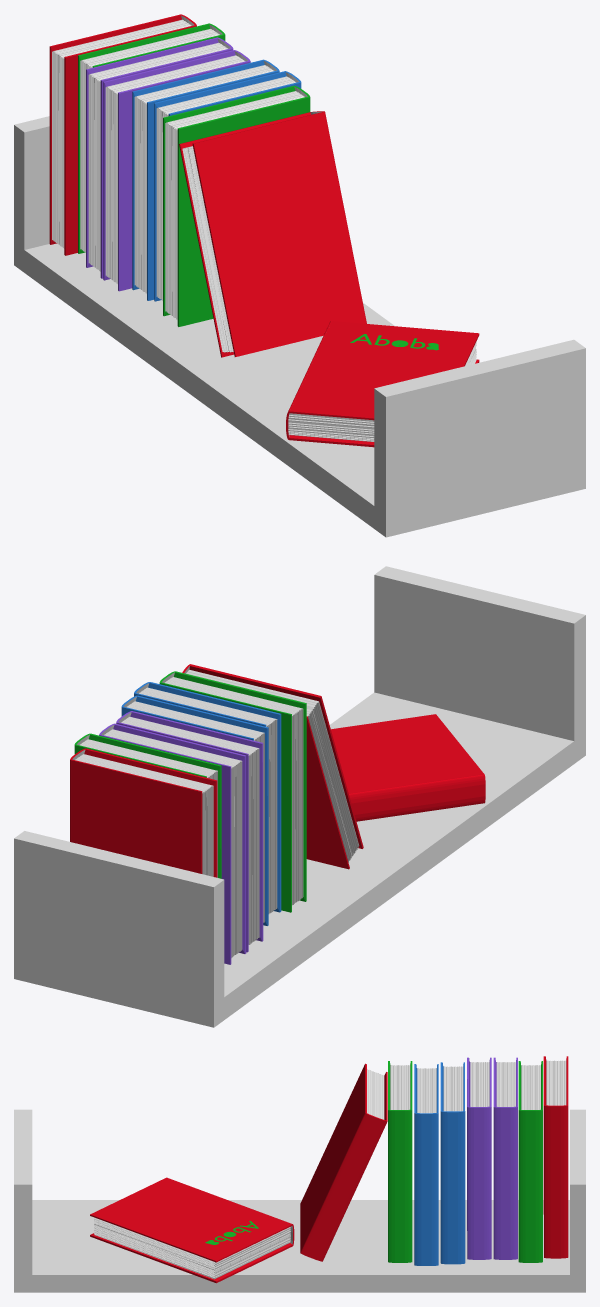
Rendered from Bookshelf.fbx.
3 views of the same model, one above another, from view 1: azimuth 30°, elevation 25°; view 2: azimuth 150°, elevation 25°; view 3: azimuth 270°, elevation 25° (orthographic). The views are drawn at different scales.
Visible parts, largest first — view 1: Куб; view 2: Куб; view 3: Куб.
Part boxes in pixels (box(x1,y1,x2,y2)): Куб: box(14, 14, 585, 537); Куб: box(14, 566, 585, 1027); Куб: box(14, 1056, 585, 1292).
Bounding box in the file's own units: 0.4094 × 1.17 × 0.385.
